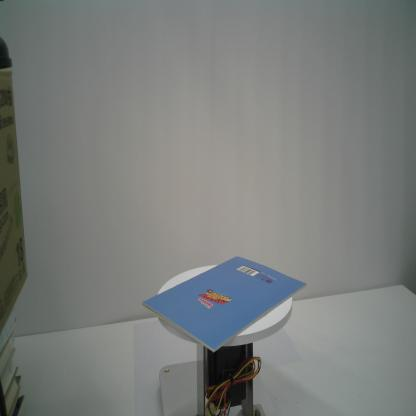Stationery: (141, 256, 307, 354)
